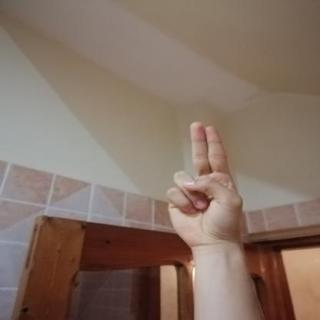TA: (155, 114, 258, 255)
